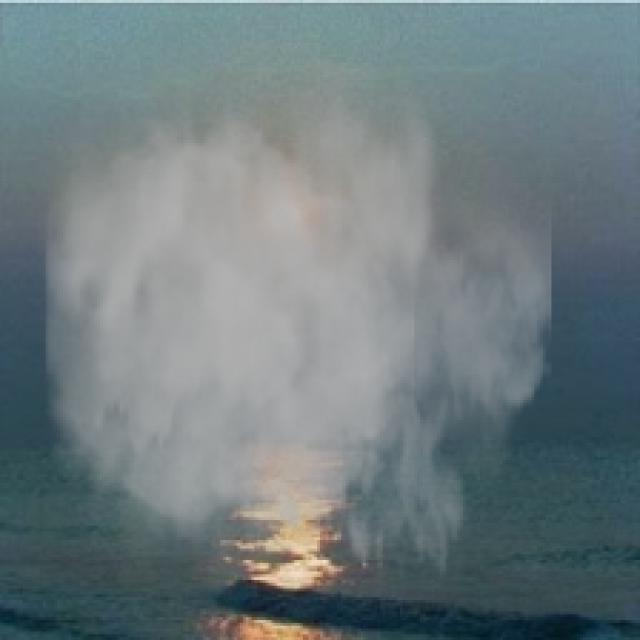smoke: (14, 63, 552, 631)
